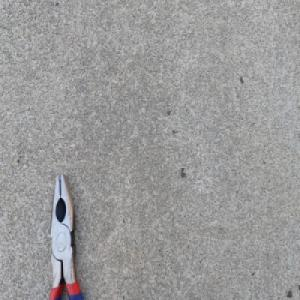Pliers: (47, 170, 84, 300)
